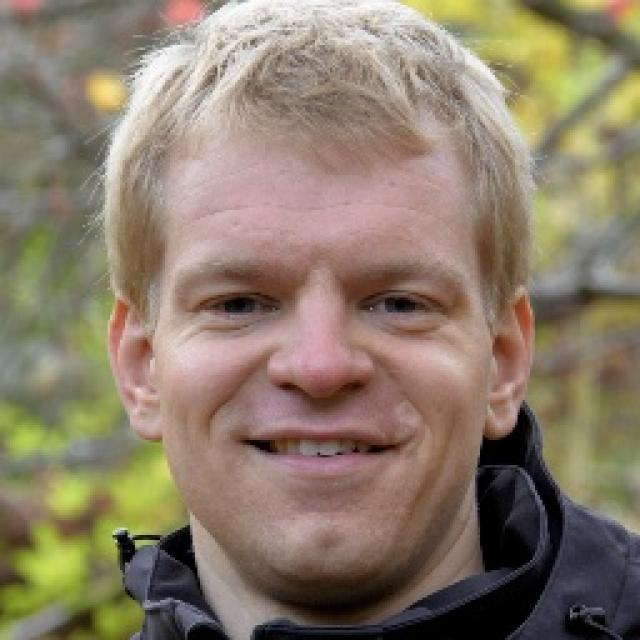earlobe: (127, 391, 164, 444), (482, 390, 520, 440)
eye: (197, 292, 279, 320), (362, 293, 438, 323)
nose: (266, 375, 368, 415)
wholeear: (104, 292, 164, 445), (482, 281, 535, 440)
